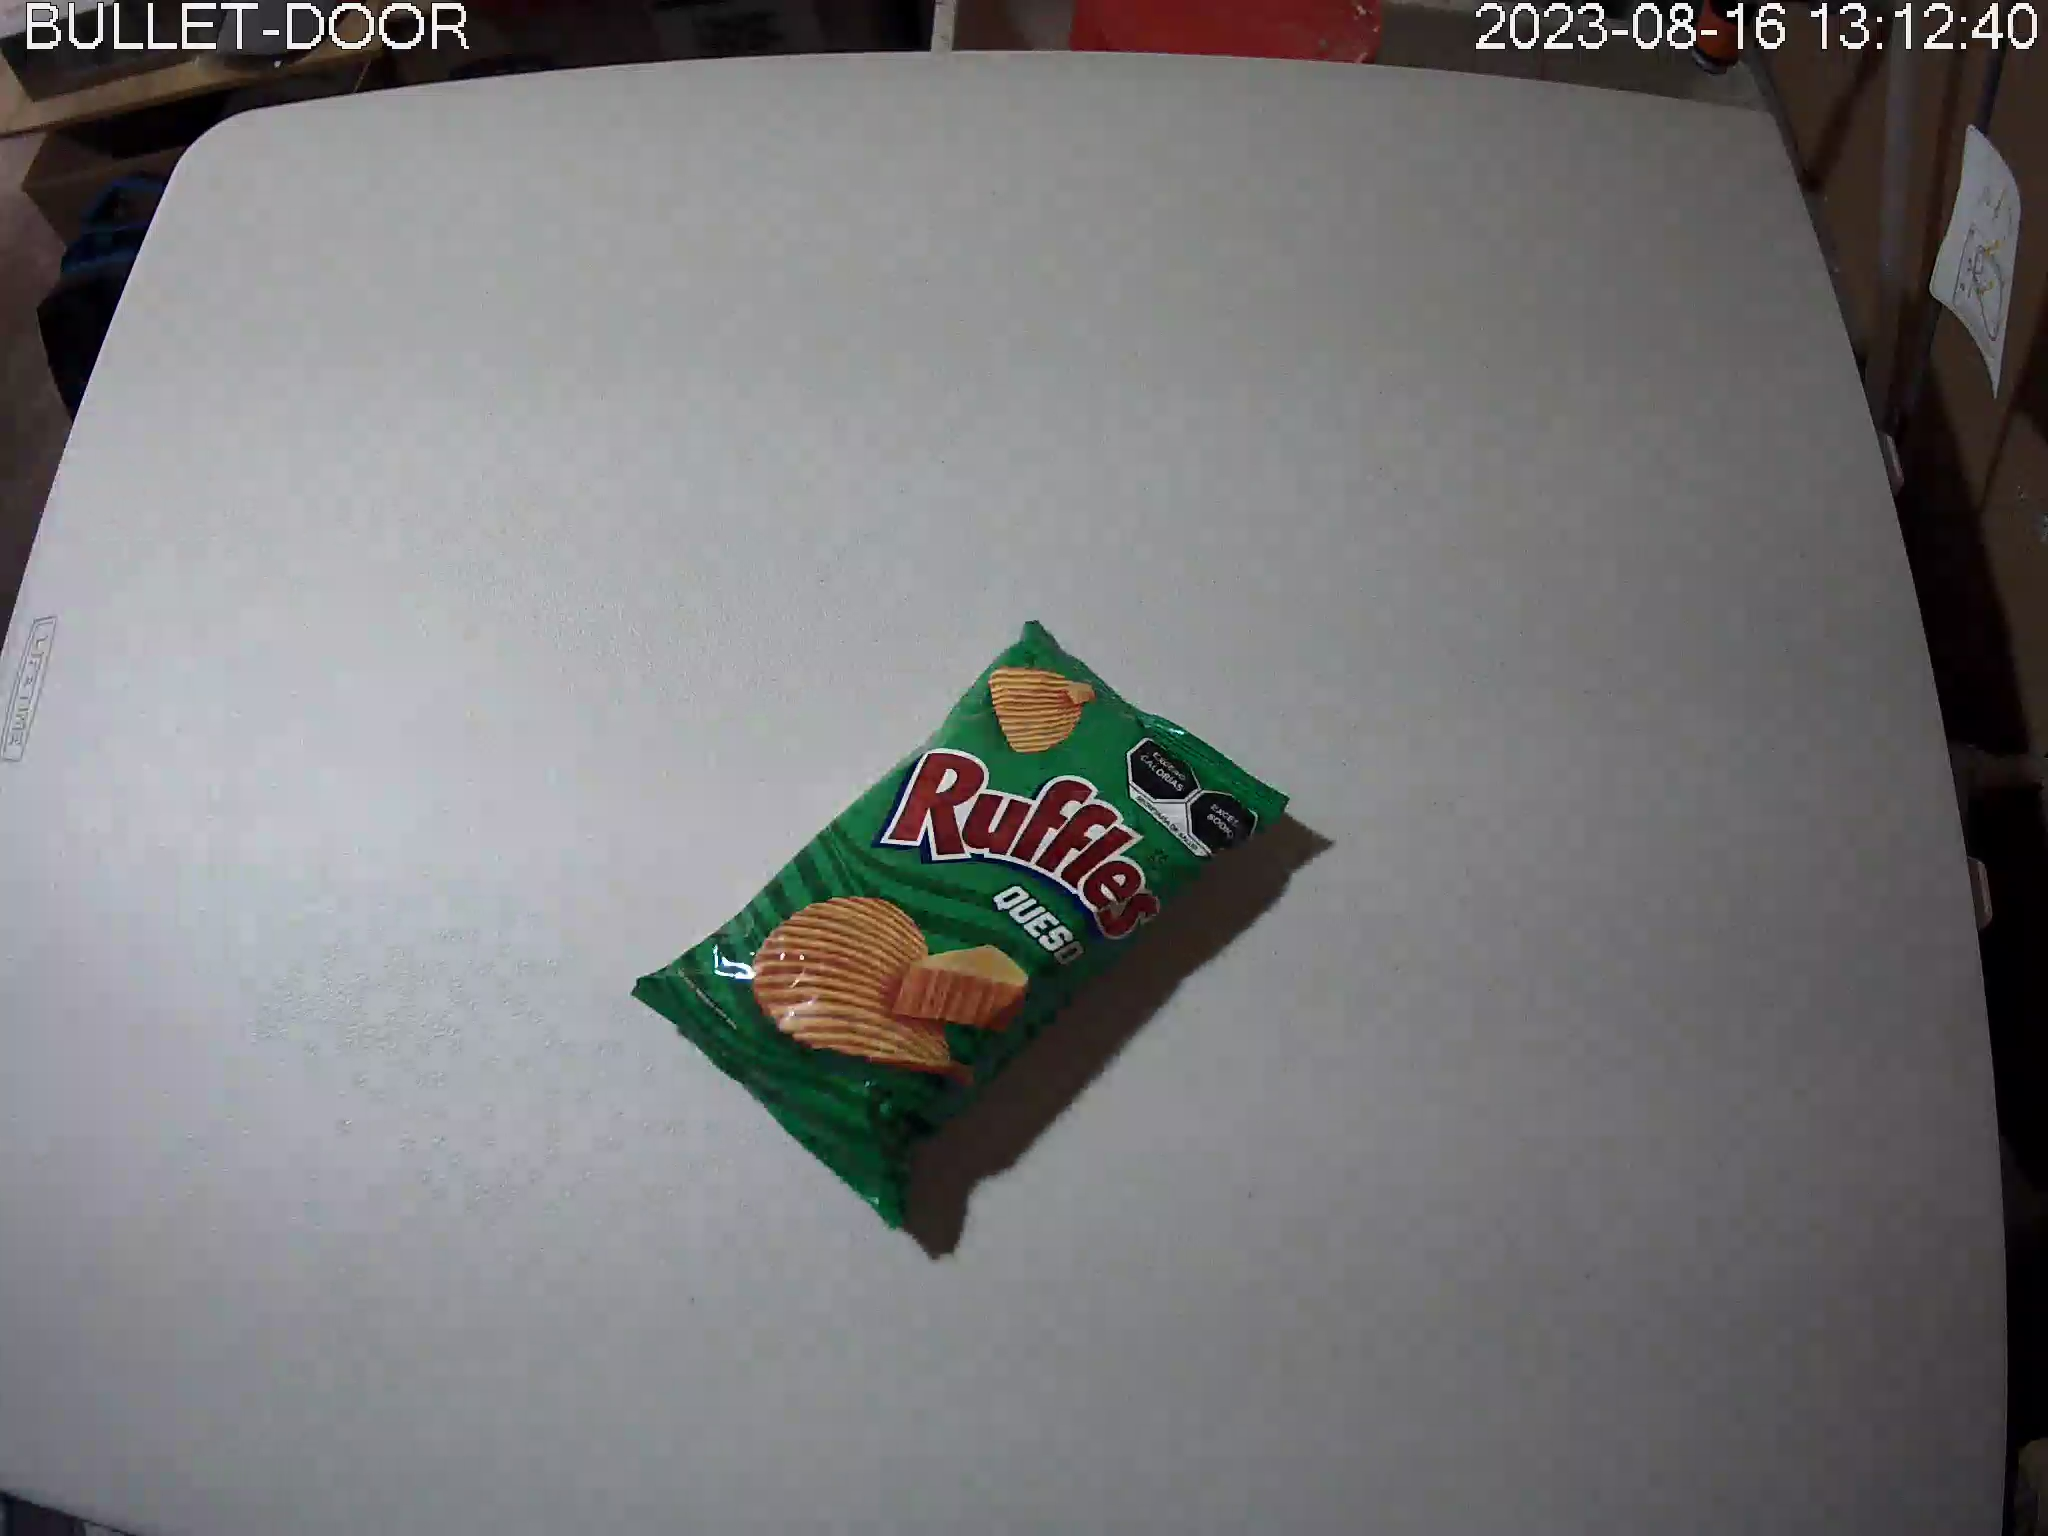RufflesQ_48_F: (627, 620, 1292, 1233)
